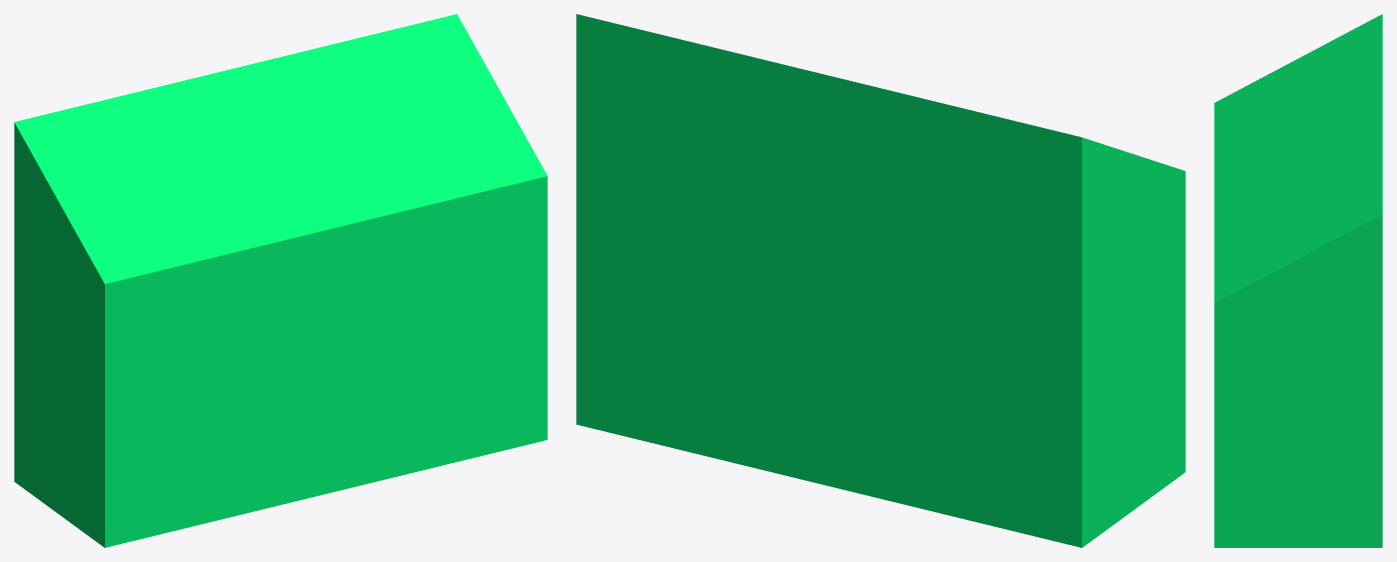
The model's file is BuildingExtencion_Collision.FBX.
The picture shows the model from 3 angles, left to right: view 1: azimuth 30°, elevation 25°; view 2: azimuth 150°, elevation 25°; view 3: azimuth 270°, elevation 25°; orthographic projection. The views are drawn at different scales.
Visible parts, largest first — view 1: BuildingExtencion_Collision; view 2: BuildingExtencion_Collision; view 3: BuildingExtencion_Collision.
Boxes of the visible parts, bbox=[...] form: BuildingExtencion_Collision: bbox=[14, 14, 547, 547]; BuildingExtencion_Collision: bbox=[576, 14, 1185, 547]; BuildingExtencion_Collision: bbox=[1214, 14, 1382, 547].
Size of the model in its own units: 6.26 by 4.86 by 2.22.
